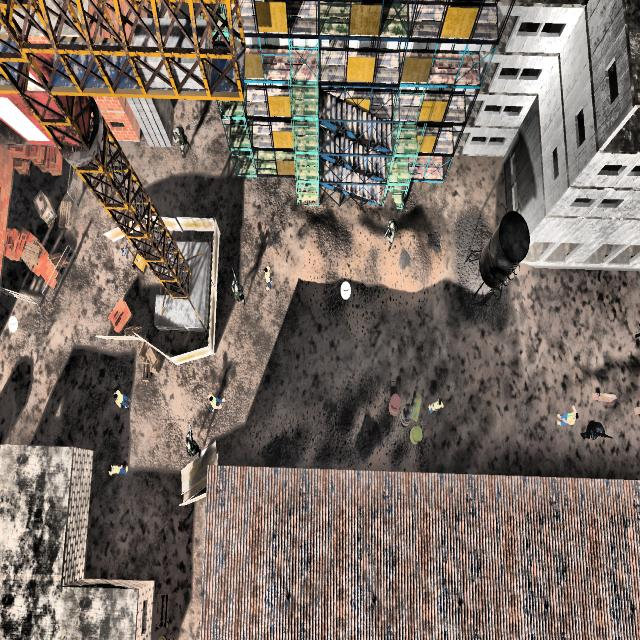bad: (168, 111, 194, 168), (581, 410, 608, 454), (379, 210, 403, 257), (182, 418, 204, 466), (228, 267, 246, 309)
good: (550, 400, 581, 437), (110, 377, 131, 419), (258, 257, 275, 299), (105, 459, 132, 485), (426, 388, 445, 418)
